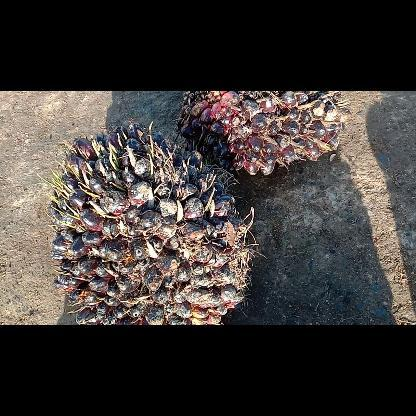TBS mentah: (44, 121, 252, 324), (173, 90, 353, 180)
